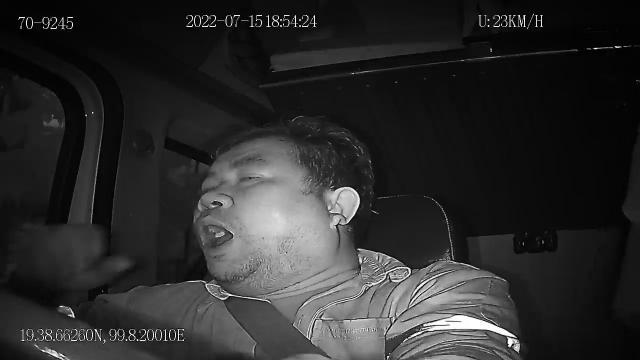Seatbelt: (221, 294, 333, 360)
